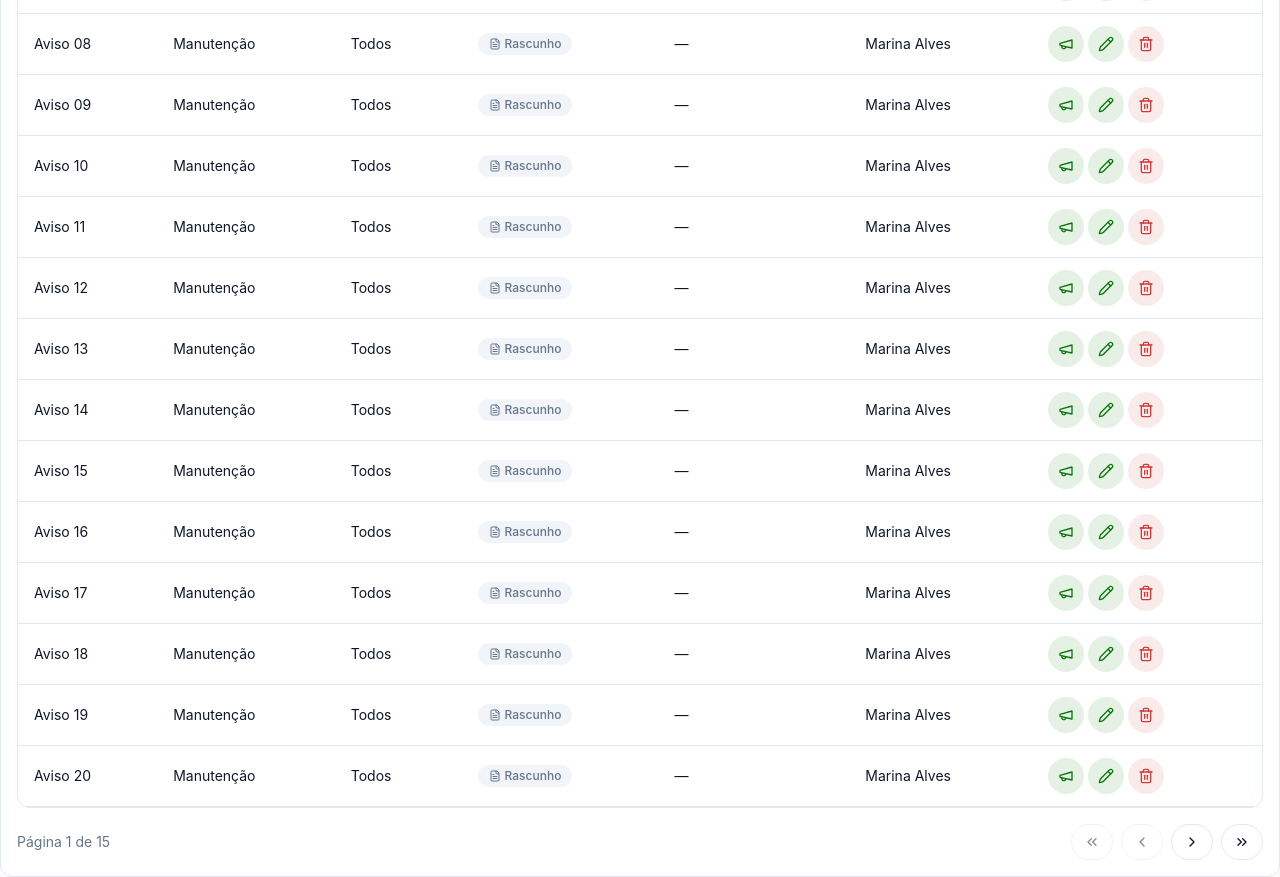
Listagem de comunicados › trezentos comunicados paginam no tamanho pedido
(page scrolled)
Click the button named "Próxima página" at (1192, 842), box left=1171, top=824, right=1213, bottom=860
(page scrolled)
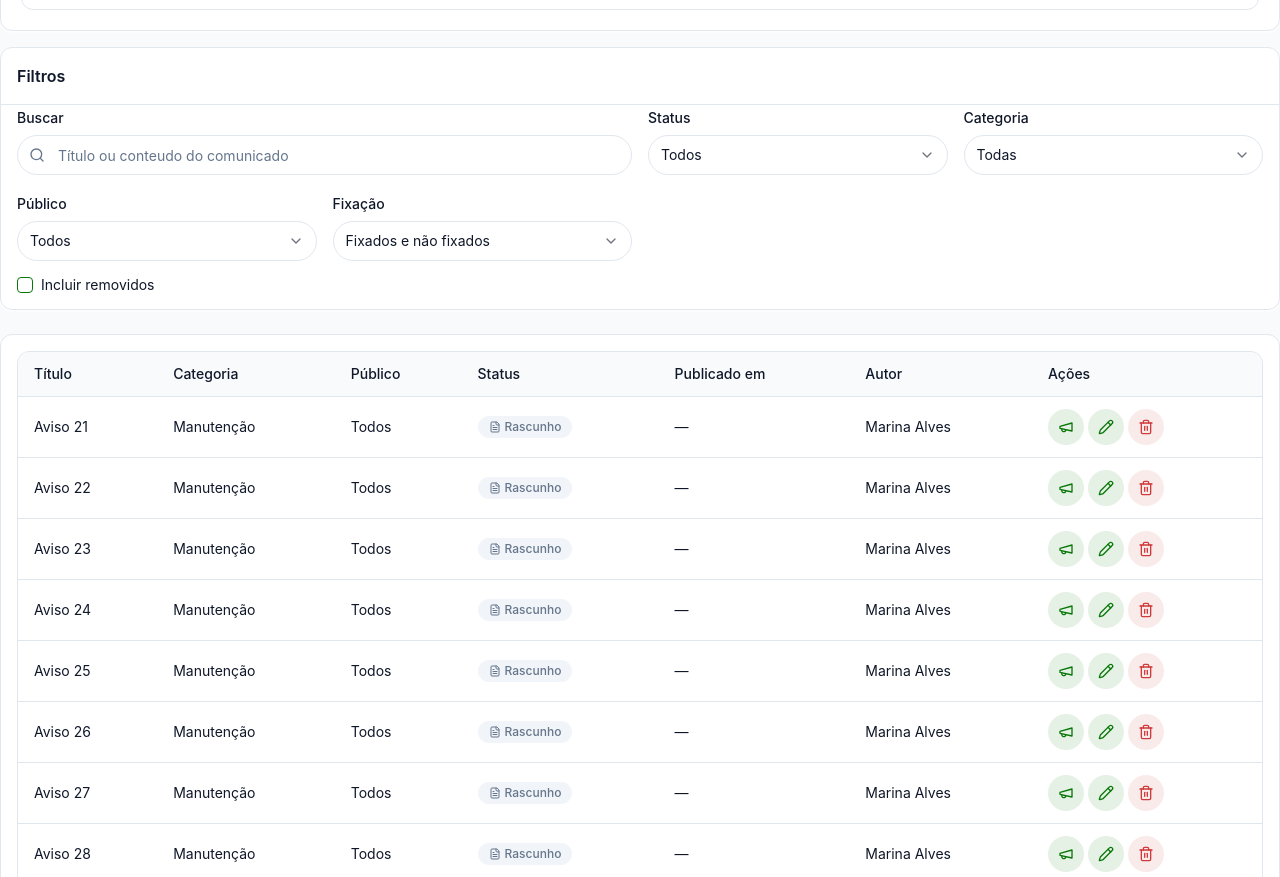
Now the text "Aviso 21" is shown, box left=34, top=417, right=88, bottom=437
